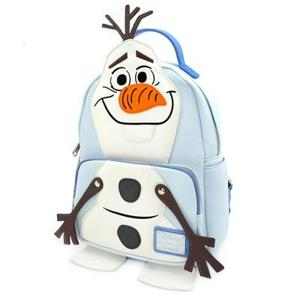olaf: (92, 7, 180, 259)
